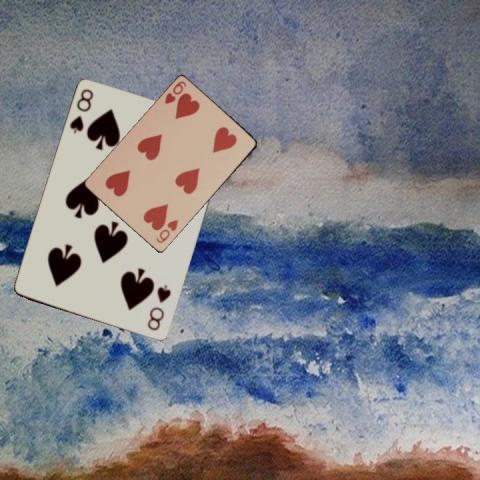6h: (161, 78, 188, 106), (153, 217, 179, 245)
8s: (144, 281, 173, 333), (67, 86, 95, 135)
